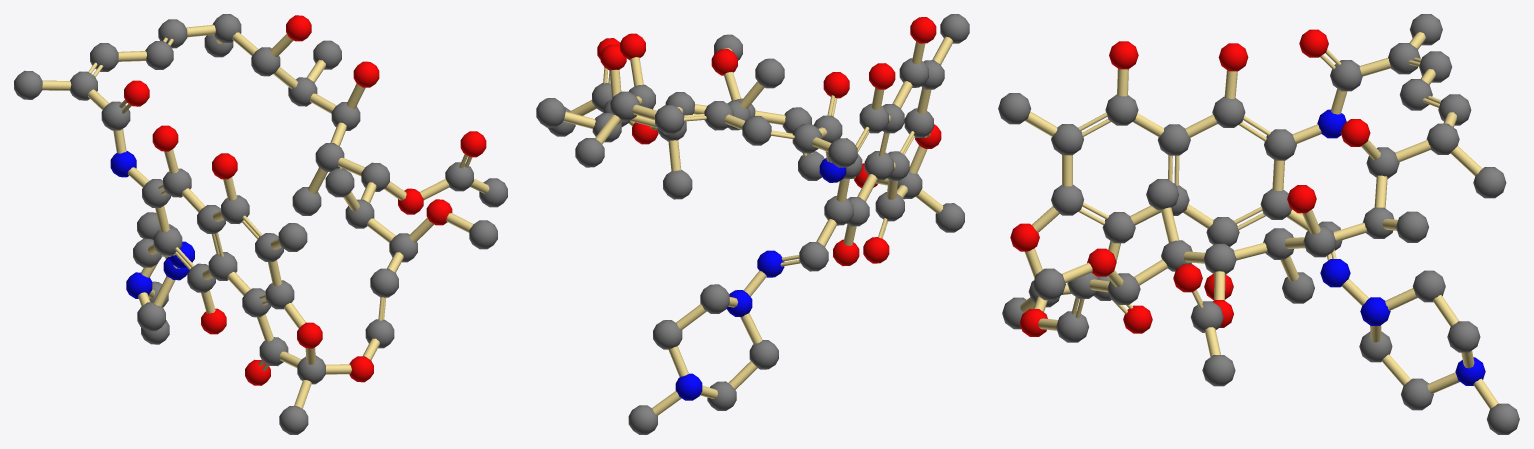
File: rifampcin.glb
3 renders of one model, left to right at view 1: azimuth 30°, elevation 25°; view 2: azimuth 150°, elevation 25°; view 3: azimuth 270°, elevation 25°, orthographic. The views are drawn at different scales.
Parts seen in each view (by area): view 1: node-geom108, node-geom88, node-geom111, node-geom102, node-geom87, node-geom104, node-geom114, node-geom92, node-geom95, node-geom89, node-geom107, node-geom109 (+41 smaller); view 2: node-geom108, node-geom104, node-geom105, node-geom117, node-geom91, node-geom115, node-geom107, node-geom93, node-geom106, node-geom112, node-geom114, node-geom116 (+37 smaller); view 3: node-geom111, node-geom116, node-geom88, node-geom106, node-geom112, node-geom110, node-geom105, node-geom76, node-geom108, node-geom79, node-geom115, node-geom94 (+41 smaller).
Boxes of the visible parts, x1,y1,x2,y2 form: node-geom108: (325,168,354,197); node-geom88: (278,223,307,251); node-geom111: (469,220,497,249); node-geom102: (370,268,398,297); node-geom87: (279,406,308,434); node-geom104: (14,70,42,99); node-geom114: (137,302,165,331); node-geom92: (145,41,173,69); node-geom95: (251,47,280,76); node-geom89: (101,101,130,130); node-geom107: (292,187,321,215); node-geom109: (445,162,473,191); node-geom108: (755,58,784,88); node-geom104: (828,138,857,167); node-geom105: (575,138,604,167); node-geom117: (799,242,828,271); node-geom91: (742,116,771,145); node-geom115: (700,284,729,313); node-geom107: (663,170,692,199); node-geom93: (655,105,684,134); node-geom106: (536,98,565,127); node-geom112: (628,405,657,434); node-geom114: (749,340,778,369); node-geom116: (653,320,682,349); node-geom111: (1033,268,1065,300); node-geom116: (1447,321,1480,352); node-geom88: (998,93,1031,124); node-geom106: (1396,211,1428,242); node-geom112: (1486,403,1519,434); node-geom110: (1202,355,1235,386); node-geom105: (1473,167,1506,198); node-geom76: (1264,129,1296,160); node-geom108: (1146,179,1179,210); node-geom79: (1102,212,1135,243); node-geom115: (1412,270,1445,302); node-geom94: (1426,123,1459,154).
Bounding box in the file's own units: 11.86 × 9.25 × 12.28.
